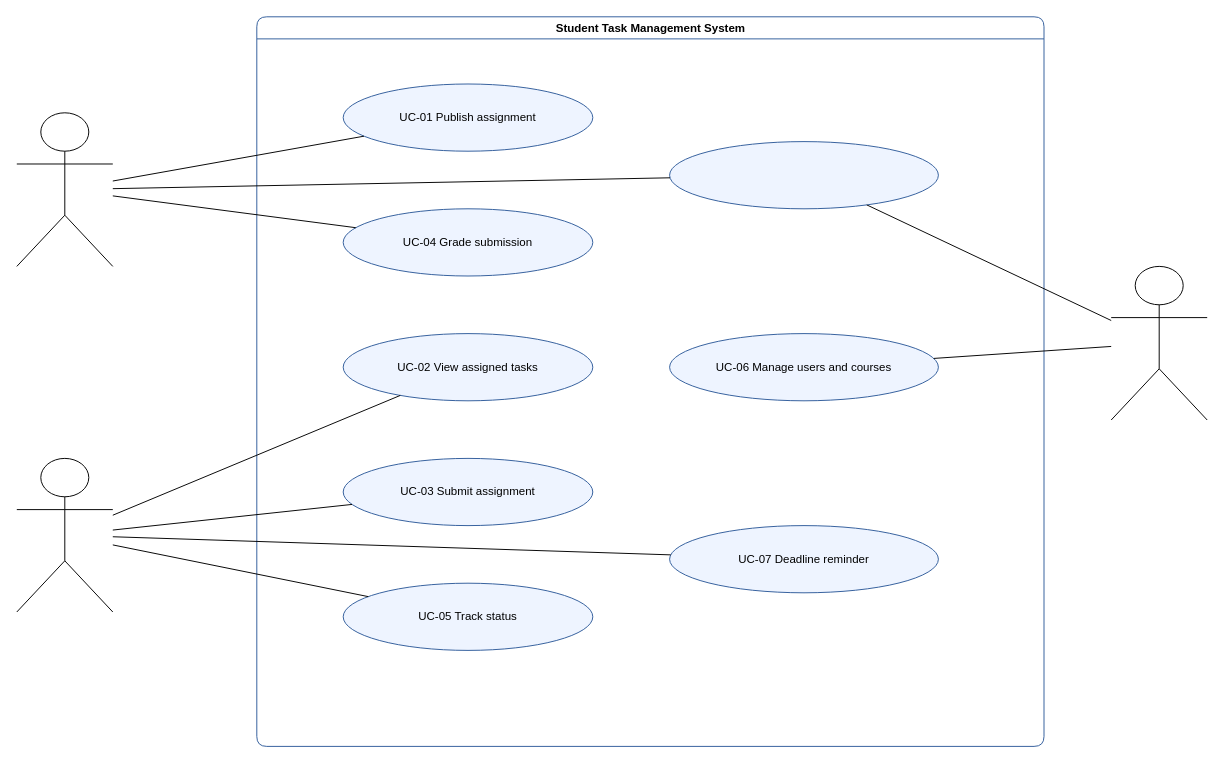
Image size: 1224x763. Some labels were removed from this diagram. Each missing label, with the centre of its shape:
Administrator: point 1158,342
Lecturer: point 64,189
Student: point 64,534
UC-08 View course report: point 803,175
